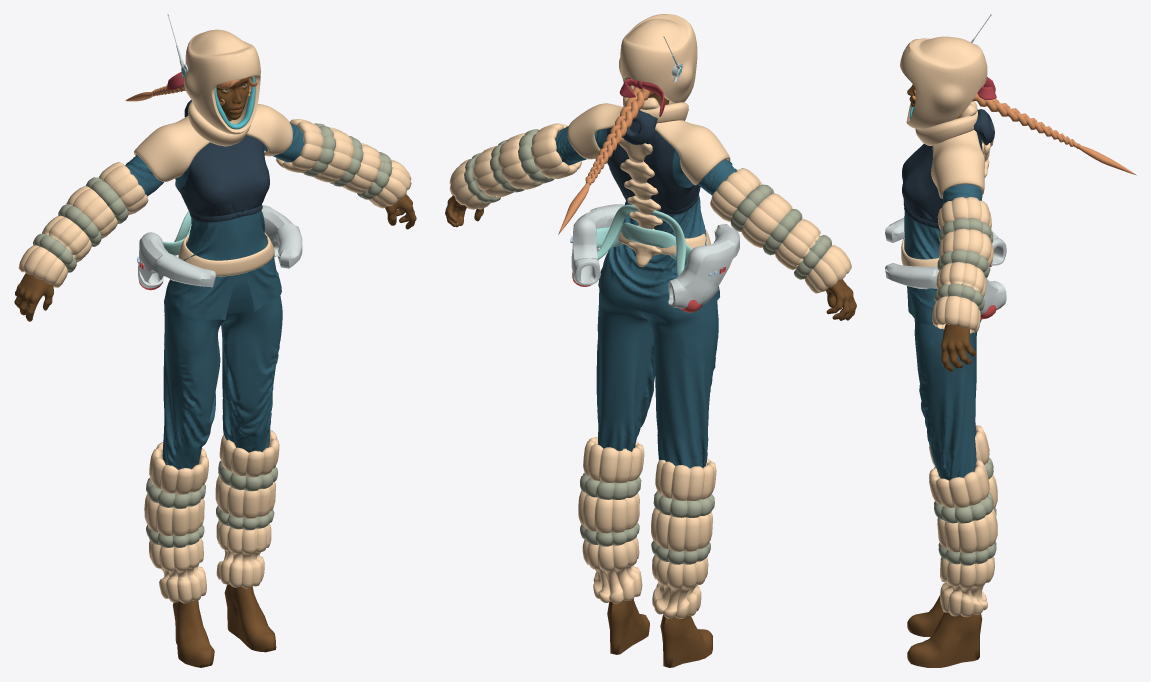
Rendered from Gravrushcustom.fbx.
The picture shows the model from 3 angles, left to right: view 1: azimuth 30°, elevation 25°; view 2: azimuth 150°, elevation 25°; view 3: azimuth 270°, elevation 25°; orthographic projection. The views are drawn at different scales.
Parts seen in each view (by area): view 1: BézierCurve.008, bettertrousers, gravrushclothing, gravrushclothing.002, helmet, BézierCurve.010, feet, Cube.002, largerhands, BézierCurve.007, gravrushclothing.001, BézierCurve.004 (+1 smaller); view 2: BézierCurve.008, bettertrousers, gravrushclothing, Cube.002, helmet, BézierCurve.010, feet, gravrushclothing.002, Retopo_spine_normal_map.001, Cube.003, largerhands, BézierCurve.002 (+4 smaller); view 3: BézierCurve.008, bettertrousers, helmet, feet, BézierCurve.010, Cube.002, gravrushclothing.002, gravrushclothing, Cube.003, largerhands, BézierCurve.004, gravrushclothing.001 (+2 smaller).
Part boxes in pixels (x1=…): BézierCurve.008: x1=18, y1=119, x2=411, y2=603; bettertrousers: x1=162, y1=242, x2=282, y2=469; gravrushclothing: x1=164, y1=119, x2=281, y2=320; gravrushclothing.002: x1=175, y1=135, x2=269, y2=222; helmet: x1=184, y1=29, x2=260, y2=134; BézierCurve.010: x1=134, y1=104, x2=292, y2=181; feet: x1=172, y1=584, x2=276, y2=667; Cube.002: x1=137, y1=205, x2=302, y2=290; largerhands: x1=14, y1=194, x2=416, y2=321; BézierCurve.007: x1=178, y1=232, x2=274, y2=276; gravrushclothing.001: x1=125, y1=123, x2=304, y2=196; BézierCurve.004: x1=188, y1=101, x2=250, y2=146; BézierCurve.008: x1=449, y1=123, x2=851, y2=618; bettertrousers: x1=596, y1=290, x2=718, y2=468; gravrushclothing: x1=596, y1=128, x2=719, y2=315; Cube.002: x1=570, y1=204, x2=739, y2=312; helmet: x1=618, y1=14, x2=697, y2=103; BézierCurve.010: x1=567, y1=103, x2=730, y2=185; feet: x1=607, y1=599, x2=712, y2=667; gravrushclothing.002: x1=607, y1=127, x2=700, y2=214; Retopo_spine_normal_map.001: x1=619, y1=138, x2=662, y2=267; Cube.003: x1=558, y1=87, x2=653, y2=234; largerhands: x1=445, y1=195, x2=856, y2=320; BézierCurve.002: x1=597, y1=204, x2=685, y2=276; BézierCurve.008: x1=929, y1=140, x2=997, y2=617; bettertrousers: x1=905, y1=248, x2=981, y2=480; helmet: x1=900, y1=36, x2=987, y2=129; feet: x1=907, y1=595, x2=982, y2=667; BézierCurve.010: x1=931, y1=130, x2=984, y2=198; Cube.002: x1=885, y1=217, x2=1006, y2=319; gravrushclothing.002: x1=902, y1=134, x2=982, y2=228; gravrushclothing: x1=904, y1=211, x2=940, y2=324; Cube.003: x1=972, y1=93, x2=1136, y2=175; largerhands: x1=941, y1=323, x2=976, y2=371; BézierCurve.004: x1=915, y1=101, x2=977, y2=145; gravrushclothing.001: x1=942, y1=184, x2=982, y2=284.
Bounding box in the file's own units: 121 × 183 × 67.49.
